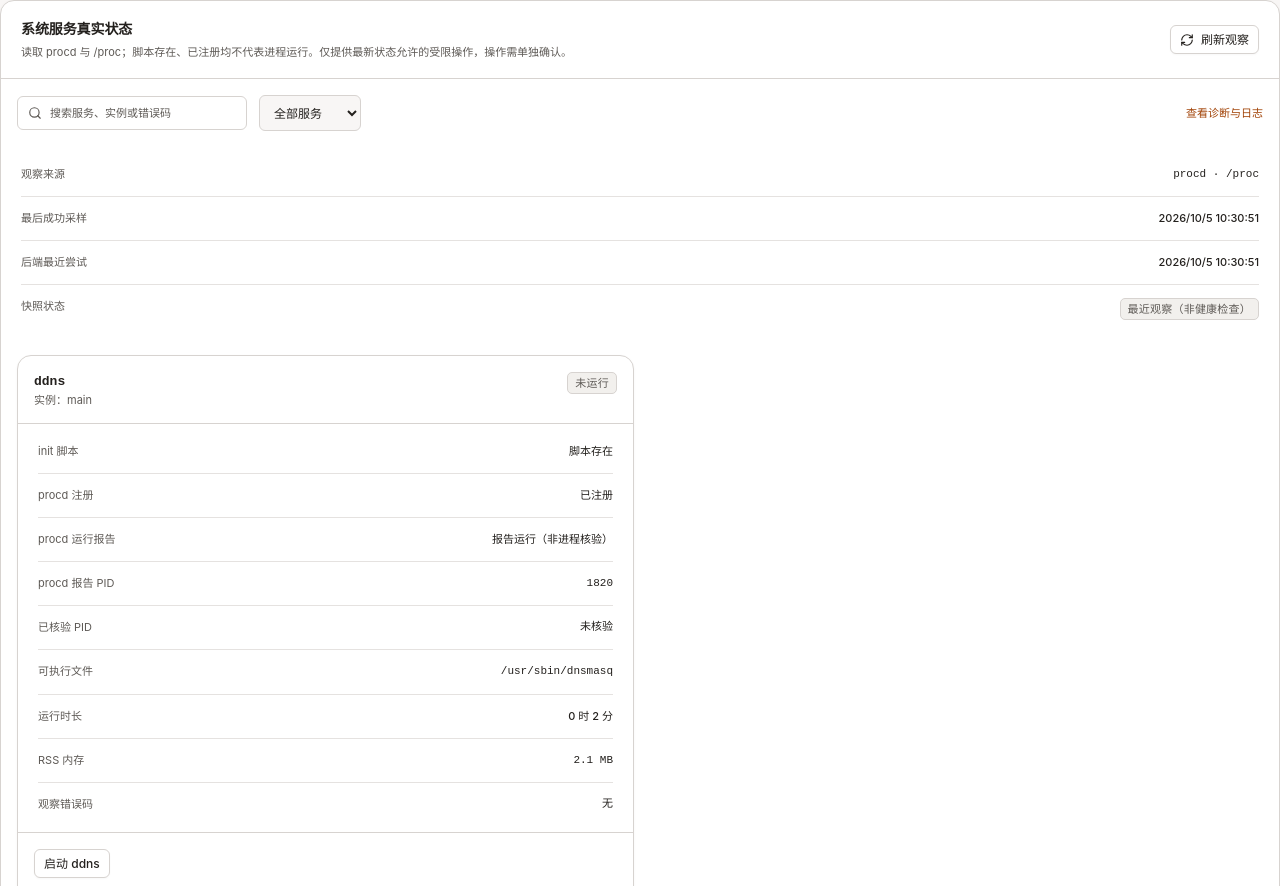
controlled installed-service actions › refreshes after action refusal, retains error detail, and never synthesizes running state
What coordinates should you click on to do the following:
click the button "启动 ddns"
I would click on:
 (72, 863)
Its box is x1=34 y1=849 x2=110 y2=878.
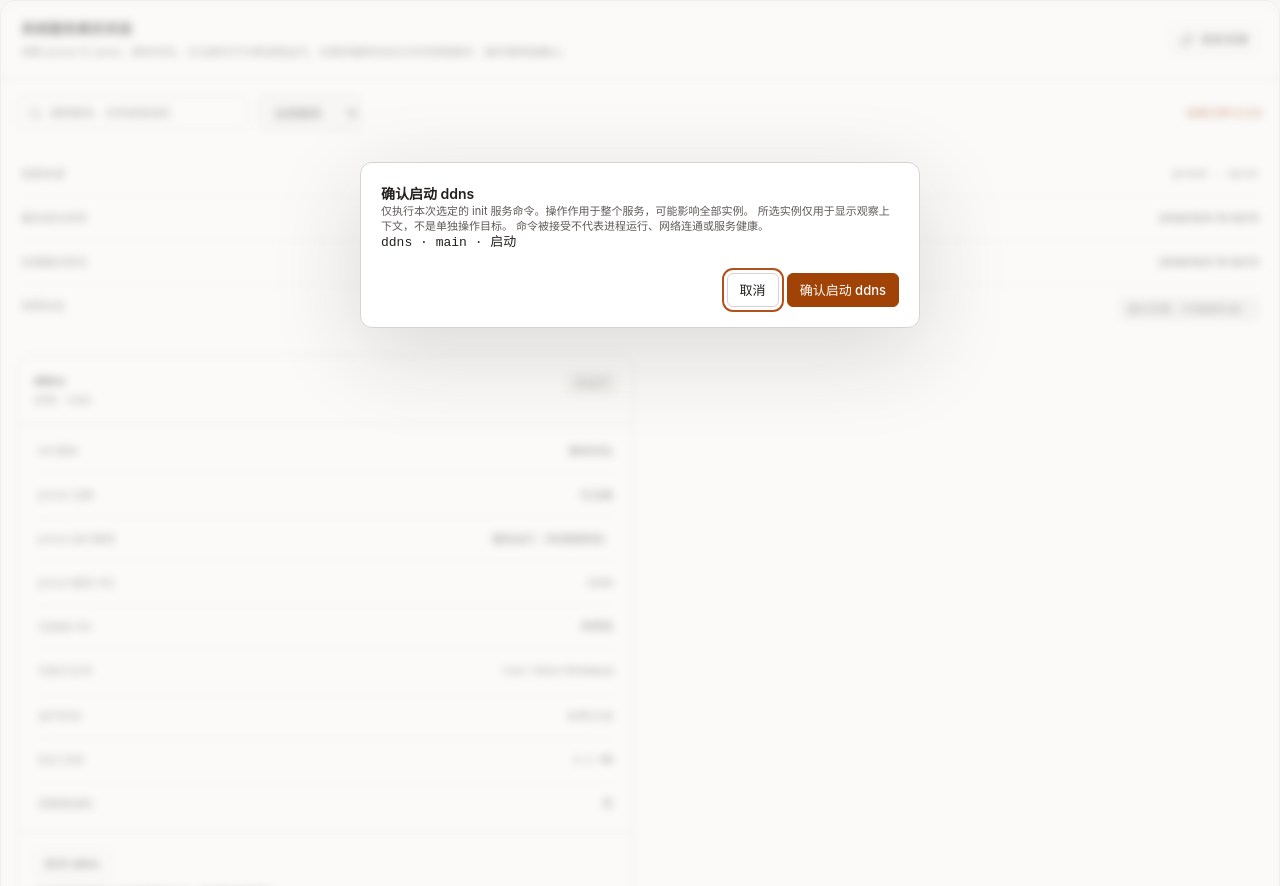
What coordinates should you click on to do the following:
click the button "确认启动 ddns"
I would click on:
 (843, 290)
Its box is x1=787 y1=274 x2=899 y2=308.
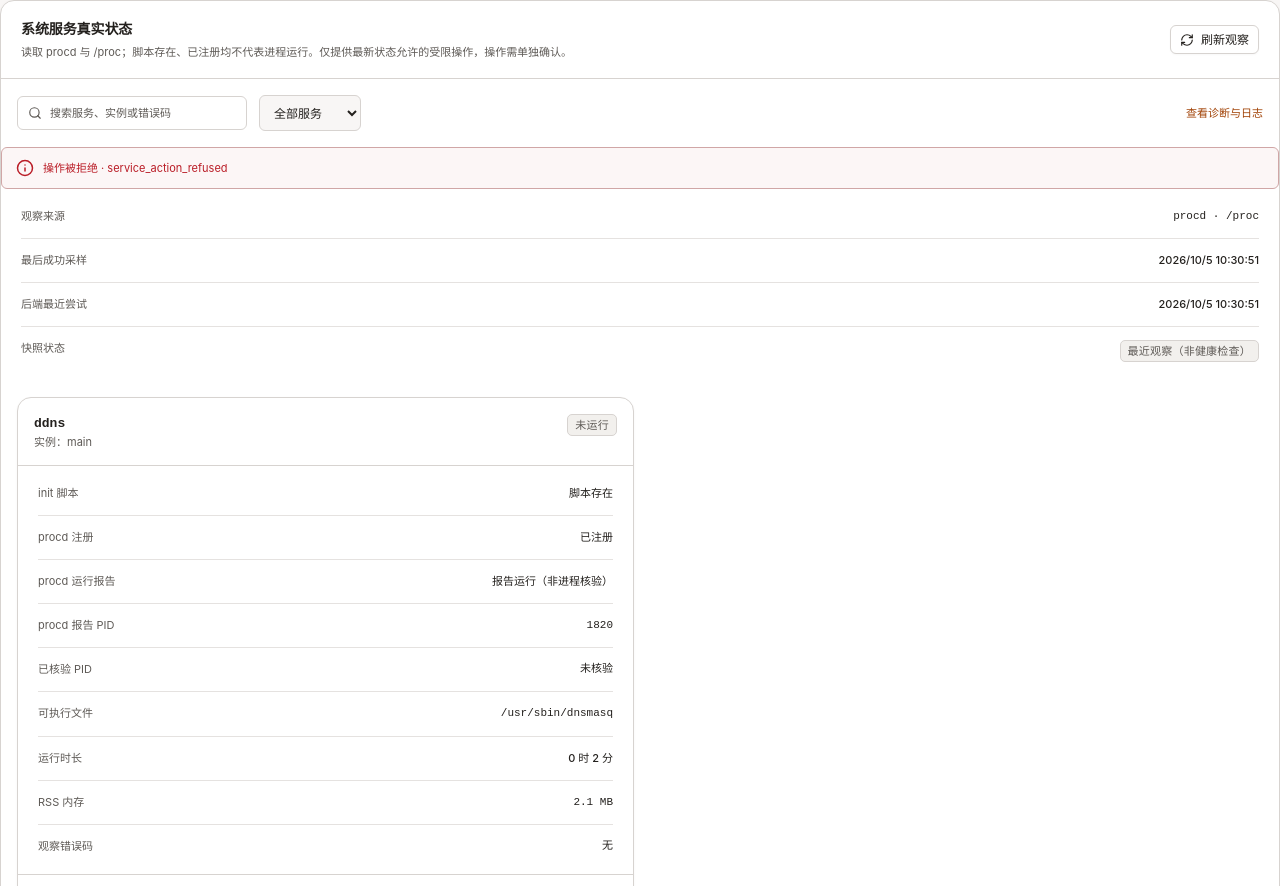
Check: the text "未运行" is shown, box x1=567 y1=414 x2=617 y2=436
Check: the text "操作被拒绝 · service_action_refused" is shown, box x1=43 y1=161 x2=228 y2=175
